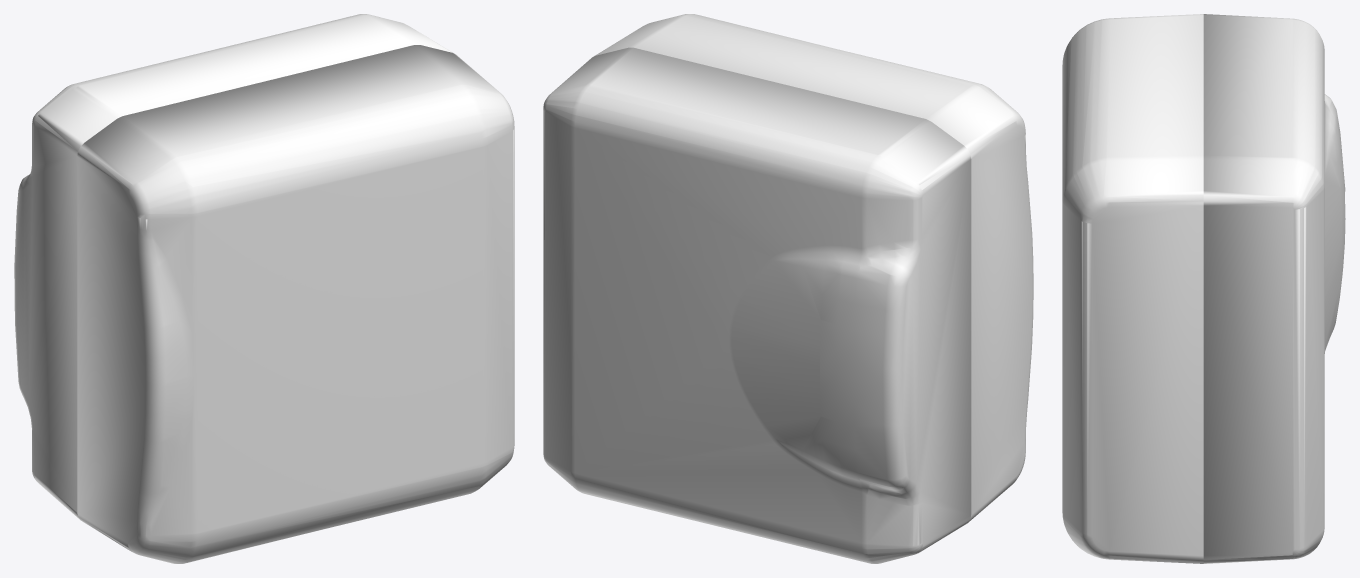
The model's file is gripper_link.obj.
The picture shows the model from 3 angles, left to right: view 1: azimuth 30°, elevation 25°; view 2: azimuth 150°, elevation 25°; view 3: azimuth 270°, elevation 25°; orthographic projection.
Size of the model in its own units: 0.122 by 0.1261 by 0.0795.
1 material, 1 textured.
